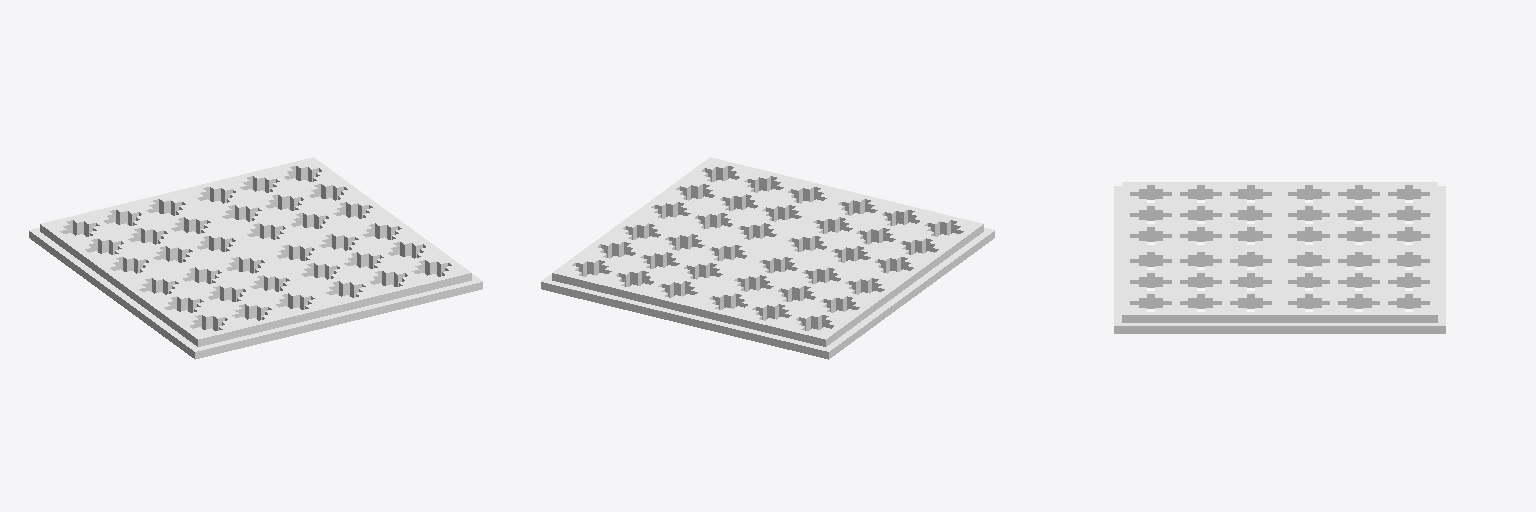
File: Barbs-1-Barbs.obj
The picture shows the model from 3 angles: view 1: azimuth 30°, elevation 25°; view 2: azimuth 150°, elevation 25°; view 3: azimuth 270°, elevation 25°; orthographic projection.
Parts seen in each view (by area): view 1: Barbs; view 2: Barbs; view 3: Barbs.
Boxes of the visible parts, x1=… form: Barbs: x1=29, y1=157, x2=482, y2=359; Barbs: x1=541, y1=157, x2=994, y2=359; Barbs: x1=1114, y1=182, x2=1445, y2=333.
Size of the model in its own units: 4 by 0.2 by 4.